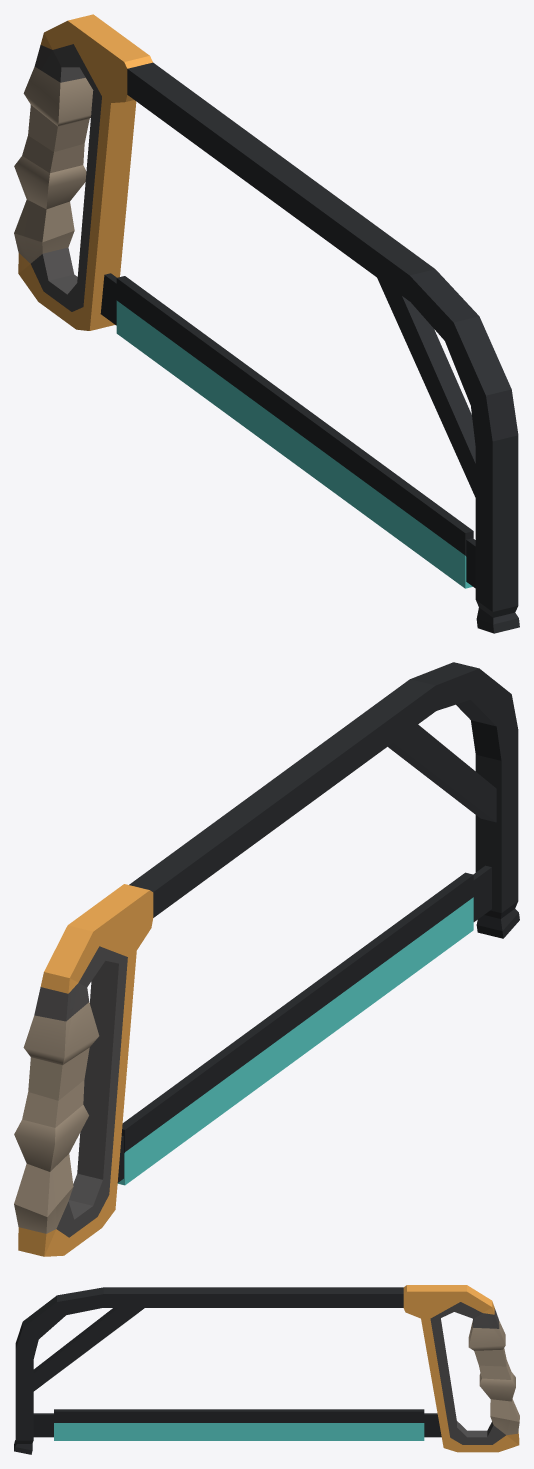
The model's file is SM_Prop_Tool_Hacksaw_01.fbx.
3 renders of one model, top to bottom at view 1: azimuth 30°, elevation 25°; view 2: azimuth 150°, elevation 25°; view 3: azimuth 270°, elevation 25°, orthographic. The views are drawn at different scales.
Visible parts, largest first — view 1: SM_Prop_Tool_Hacksaw_01; view 2: SM_Prop_Tool_Hacksaw_01; view 3: SM_Prop_Tool_Hacksaw_01.
Part boxes in pixels (bbox=[...]): SM_Prop_Tool_Hacksaw_01: bbox=[14, 14, 519, 633]; SM_Prop_Tool_Hacksaw_01: bbox=[14, 662, 519, 1256]; SM_Prop_Tool_Hacksaw_01: bbox=[14, 1285, 519, 1454].
Size of the model in its own units: 3 by 21.58 by 60.63.
